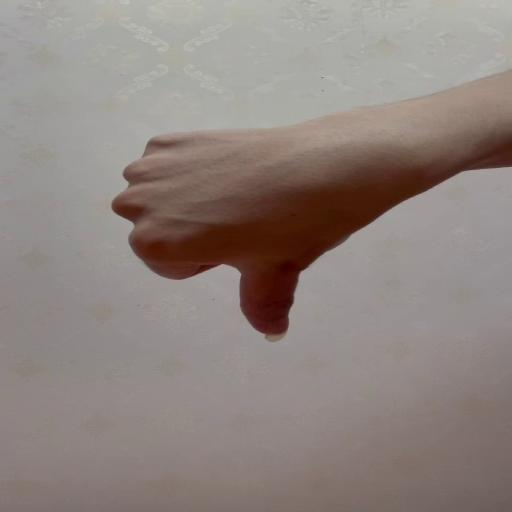thumbs_down: (108, 127, 387, 342)
